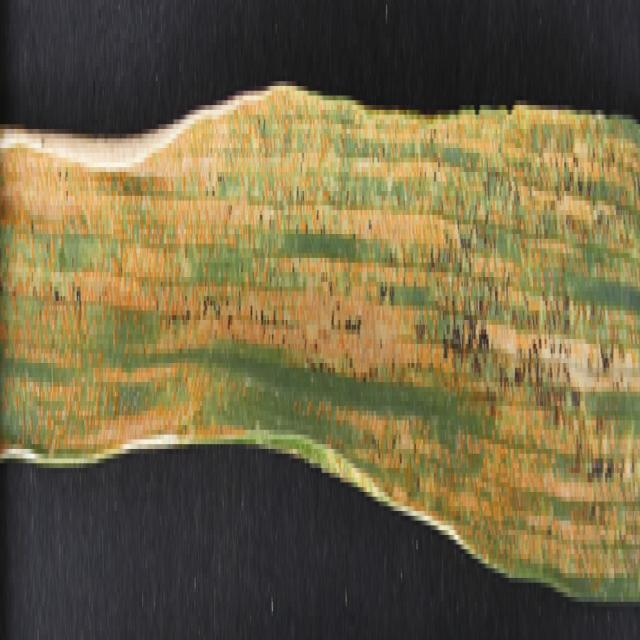leaf rust: (2, 91, 640, 525)
